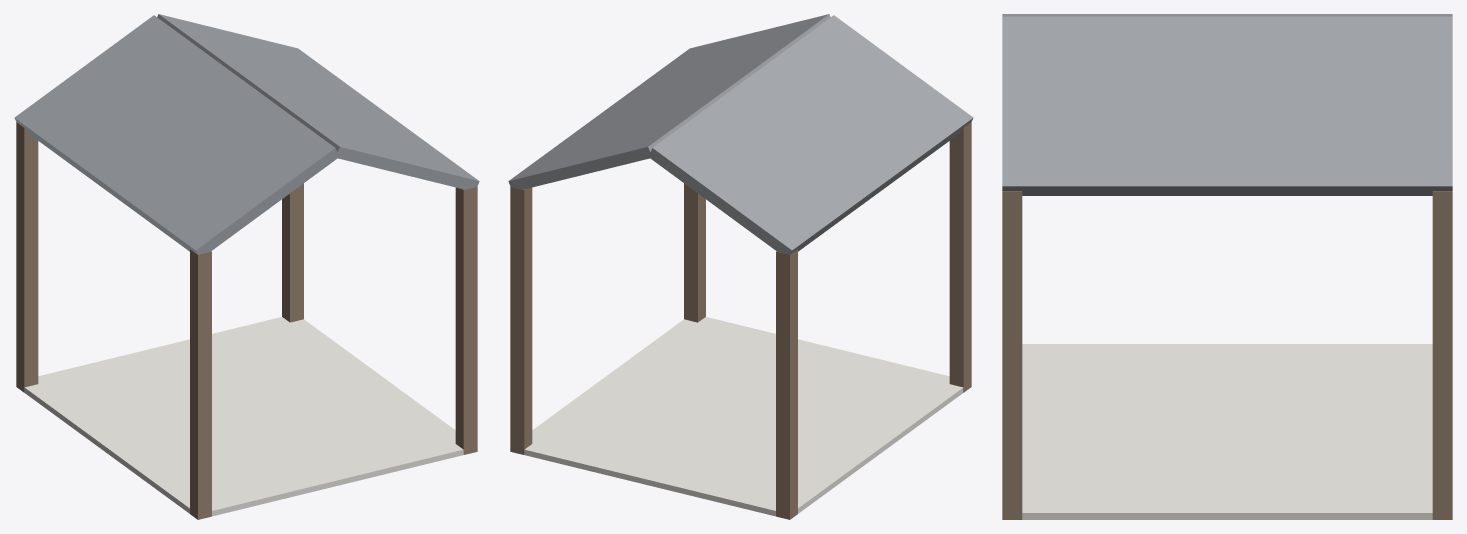
Rendered from aisle-straight.glb.
3 views of the same model, side by side, from view 1: azimuth 30°, elevation 25°; view 2: azimuth 150°, elevation 25°; view 3: azimuth 270°, elevation 25° (orthographic). The views are drawn at different scales.
Visible parts, largest first — view 1: aisle-straight; view 2: aisle-straight; view 3: aisle-straight.
Boxes of the visible parts, x1,y1,x2,y2 form: aisle-straight: (14, 14, 479, 519); aisle-straight: (508, 14, 973, 519); aisle-straight: (1002, 14, 1452, 519).
Bounding box in the file's own units: 3.25 × 3.7 × 3.6.
